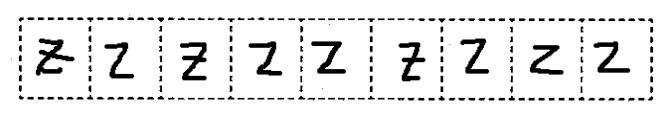Z: (32, 33, 78, 81), (171, 35, 215, 84), (522, 38, 570, 82), (99, 36, 139, 84), (243, 36, 286, 78), (308, 38, 351, 80), (453, 34, 495, 77), (588, 39, 634, 78), (392, 37, 427, 86)
